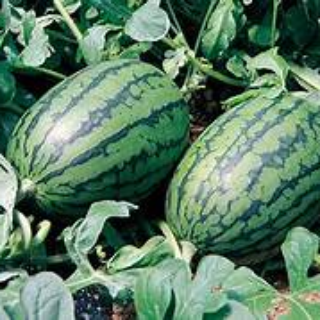dua_hau: (5, 60, 188, 206), (163, 89, 320, 250)
